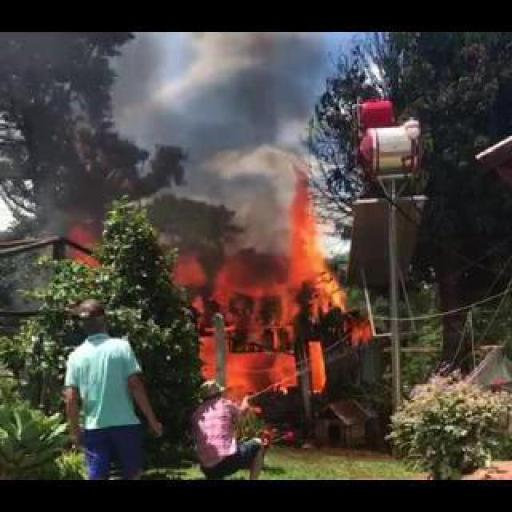smoke: (168, 170, 366, 387), (69, 226, 101, 260)
